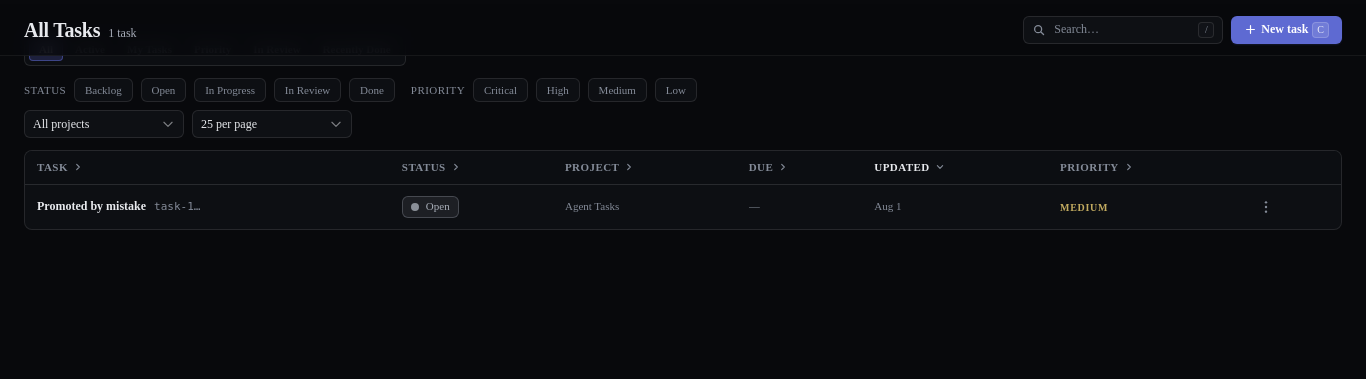
/tasks page -- Move to backlog row action › a rejected request shows the server message in the Action failed banner and does not re-fetch
This screenshot has width=1366, height=379.
Click the button named "Actions for Promoted by mistake": x=1266, y=207 [1252,193,1280,221]
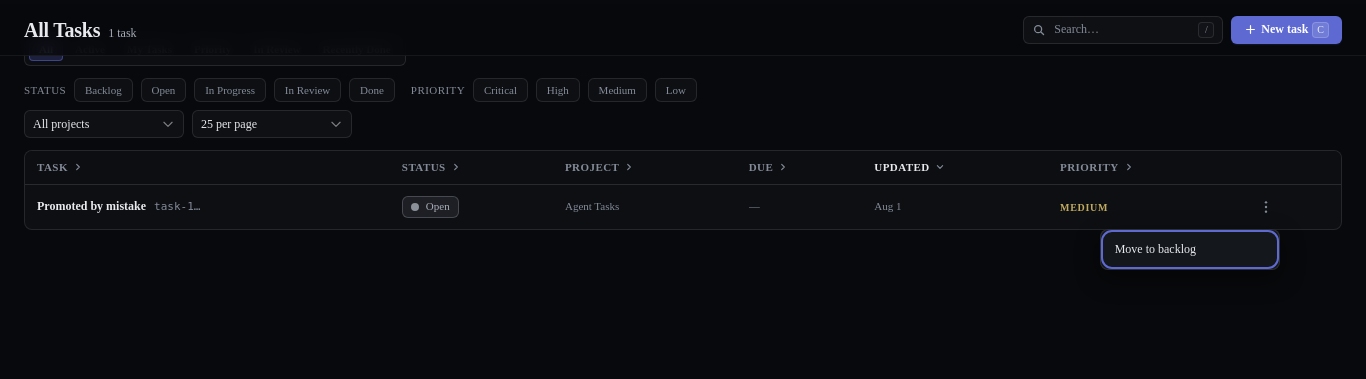
Click the menu item "Move to backlog": x=1190, y=249 [1105,234,1275,265]
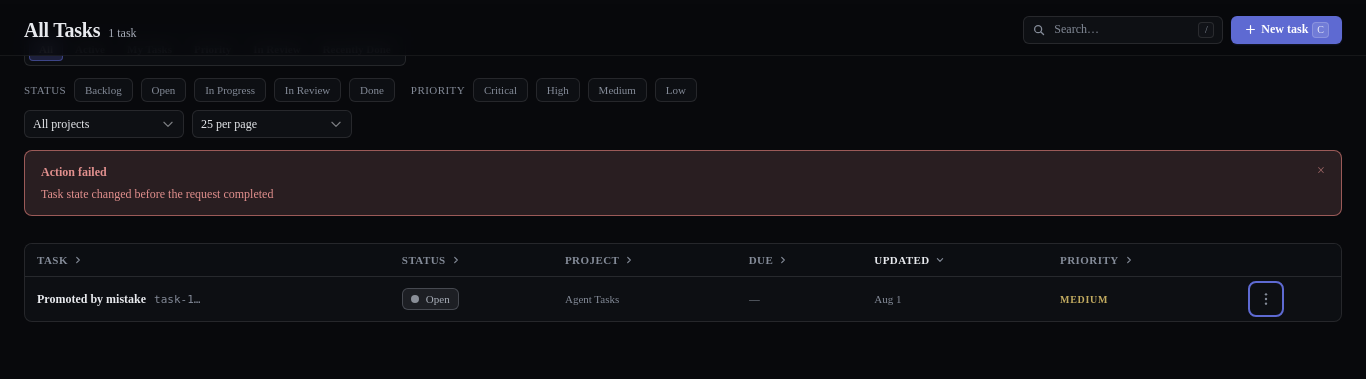
Check: the text "Action failed" is shown, box [41,165,107,179]
Check: the text "Task state changed before the request completed" is shown, box [41,187,273,201]
Click the button named "Actions for Promoted by mistake": x=1266, y=299 [1252,285,1280,313]
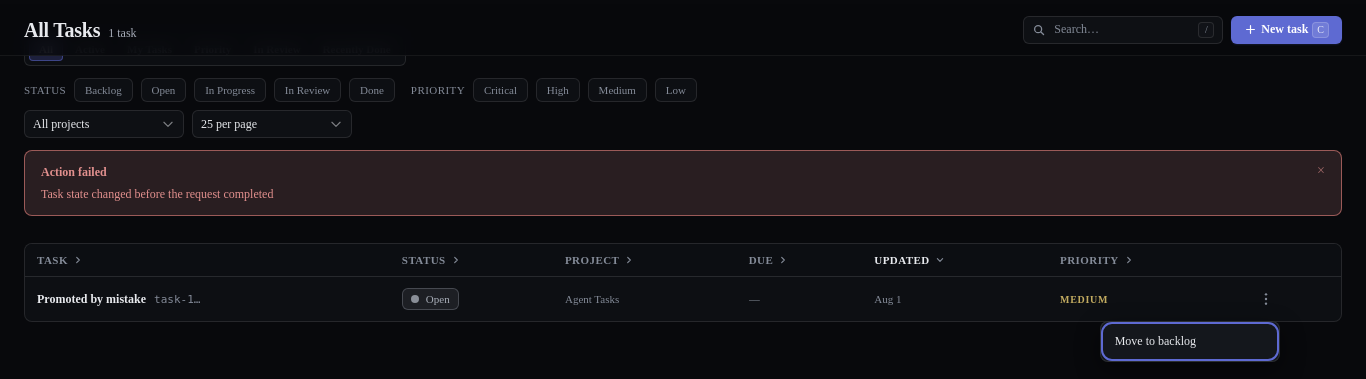
Check: the menu item "Move to backlog" is enabled, box [1105,326,1275,357]
